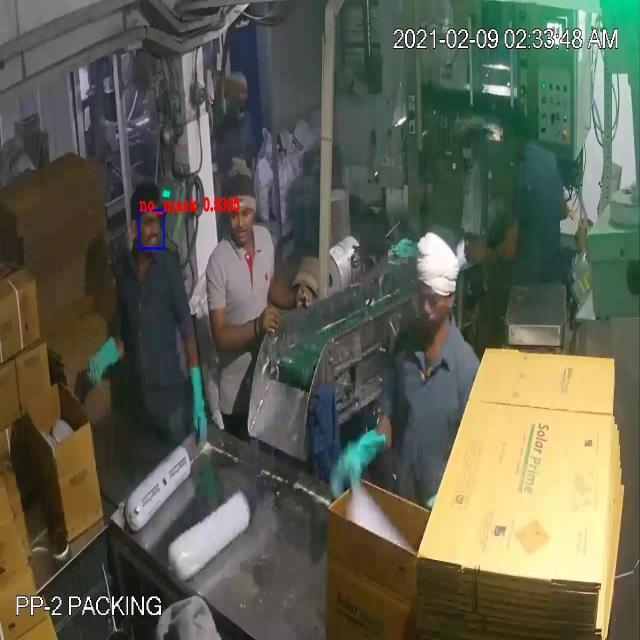Gloves: (38, 59, 490, 465)
